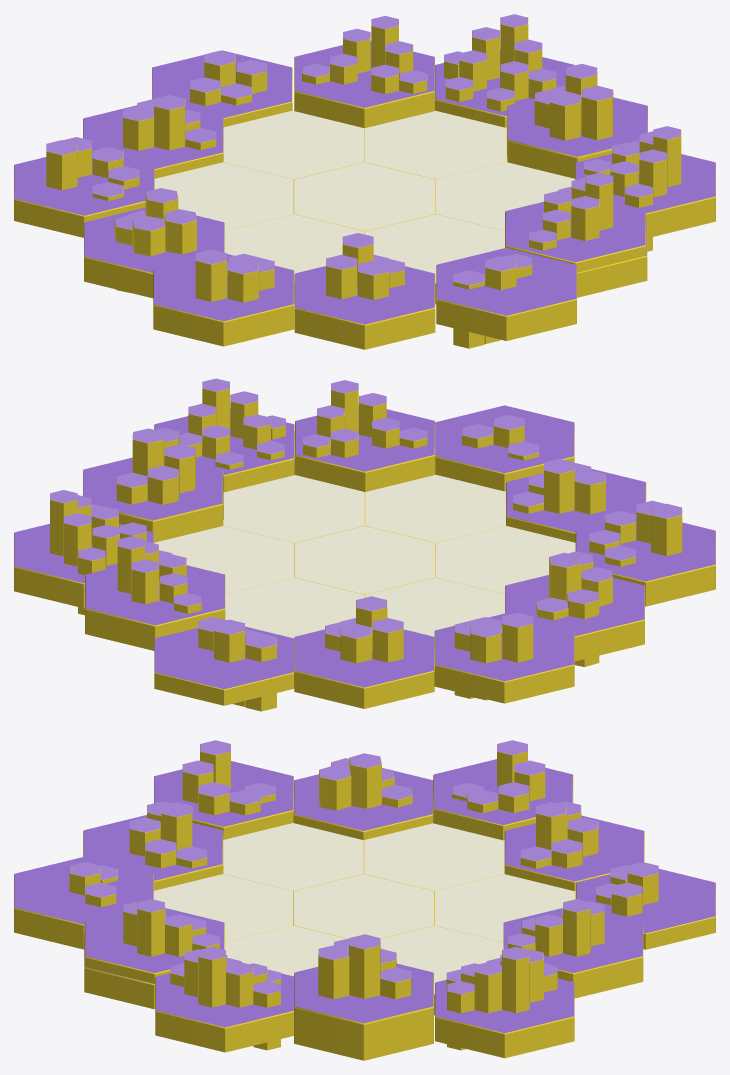
File: Arena_03.fbx
The picture shows the model from 3 angles, top to bottom: view 1: azimuth 30°, elevation 25°; view 2: azimuth 150°, elevation 25°; view 3: azimuth 270°, elevation 25°; orthographic projection.
Parts seen in each view (by area): view 1: Arena_03; view 2: Arena_03; view 3: Arena_03.
Boxes of the visible parts, x1,y1,x2,y2 form: Arena_03: [14, 14, 715, 349]; Arena_03: [14, 378, 715, 711]; Arena_03: [14, 740, 715, 1060].
Bounding box in the file's own units: 56.05 × 11.36 × 60.74.
